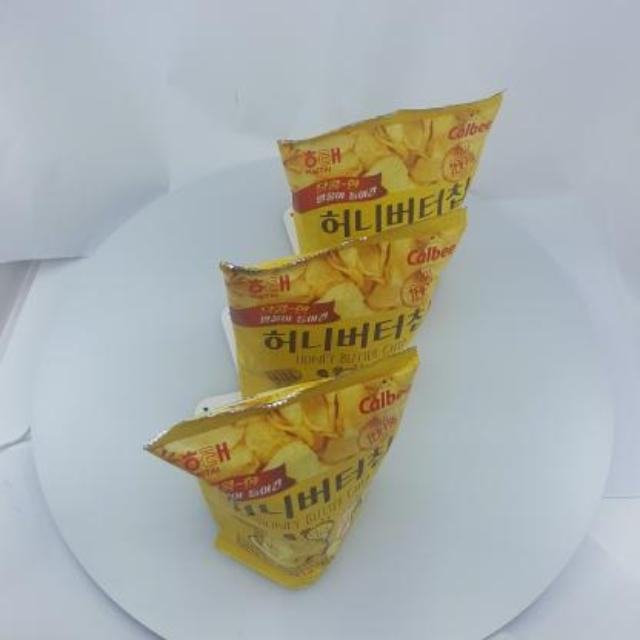snack_bag: (126, 80, 534, 610)
